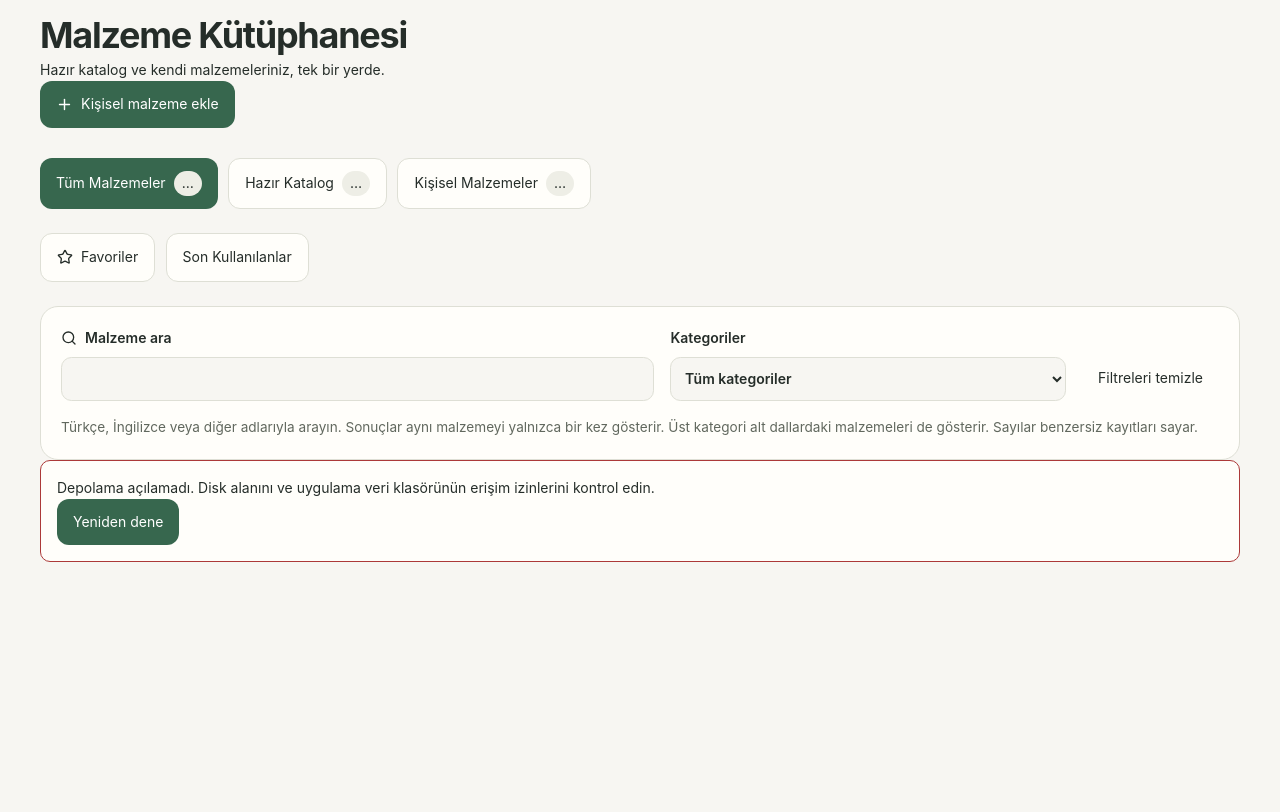
Test: database failures remain separate from empty search results and allow retry
The width and height of the screenshot is (1280, 812).
Expected: the message shows "Depolama açılamadı", [57, 479, 655, 496]
Expected: the text "Eşleşen malzeme yok" is not shown
Step 1. Click the button "Yeniden dene" → click(118, 522), box [57, 499, 179, 546]
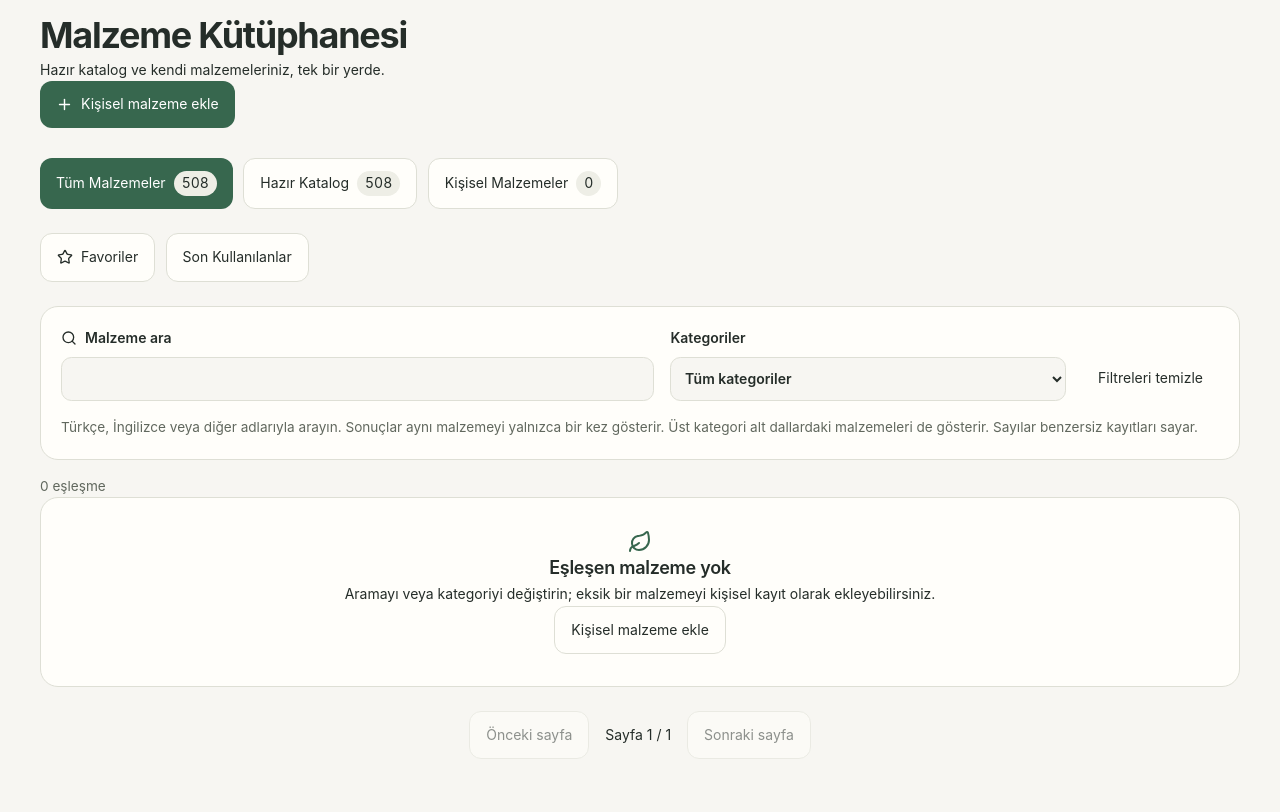
Expected: the heading "Eşleşen malzeme yok" is shown, [549, 557, 731, 578]
Expected: the number of buttons "Kişisel malzeme ekle" is 2, [40, 81, 235, 128]; [554, 606, 726, 654]
